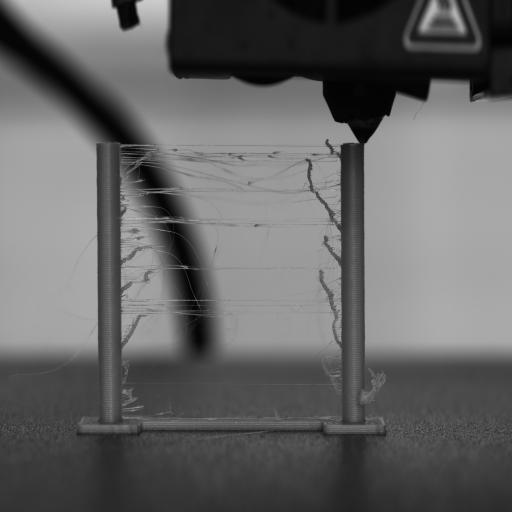spaghetti_and_stringing: (123, 135, 342, 325), (120, 355, 144, 417), (357, 372, 391, 415), (322, 355, 342, 409)
